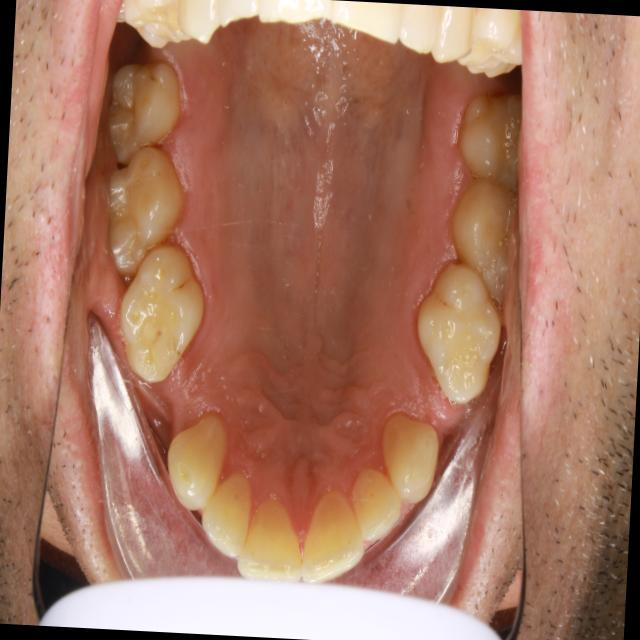tooth: (406, 250, 508, 419), (109, 237, 216, 390), (97, 139, 194, 290), (441, 168, 524, 302), (101, 56, 192, 174), (452, 76, 537, 199), (153, 401, 237, 517), (229, 483, 311, 593), (372, 401, 447, 510), (191, 452, 263, 564), (300, 483, 373, 591), (341, 455, 412, 556)
